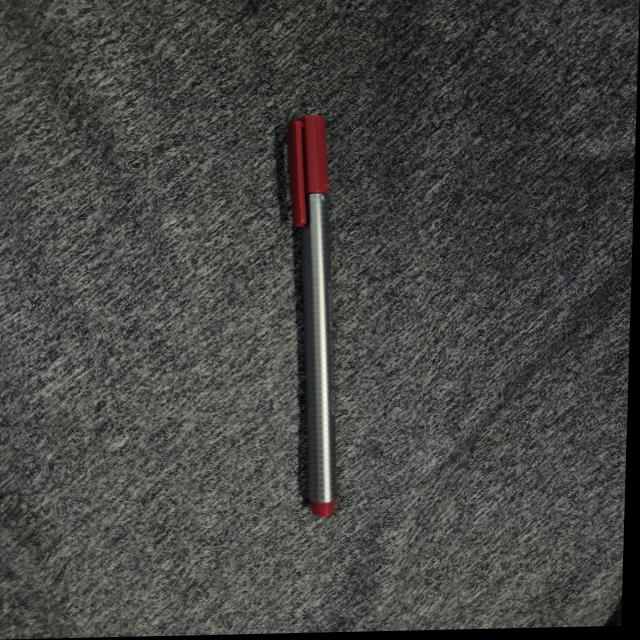caneta: (263, 105, 393, 528)
